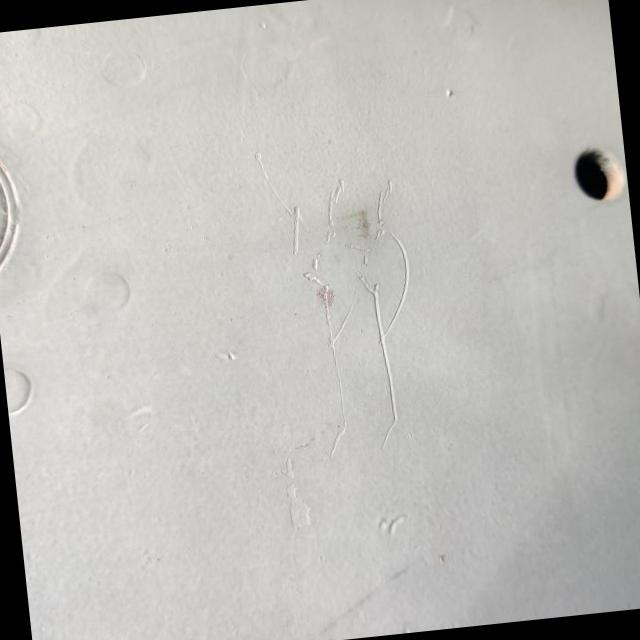Scratch: (290, 187, 411, 449)
